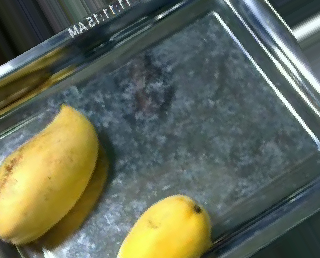Mango: (0, 100, 100, 248), (113, 187, 215, 256)
